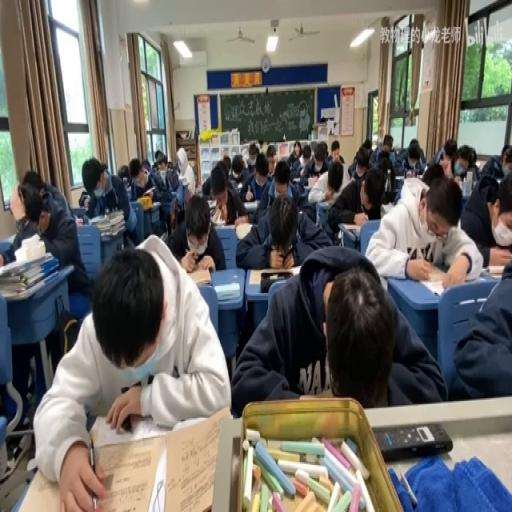calculator: (416, 268, 479, 298), (246, 267, 298, 286), (184, 267, 212, 286), (214, 282, 240, 300), (480, 263, 506, 279), (290, 181, 309, 202), (234, 222, 252, 240), (402, 175, 425, 188), (392, 181, 406, 202), (338, 220, 359, 232), (380, 200, 394, 214), (306, 175, 318, 189), (474, 156, 486, 170), (242, 199, 258, 209), (88, 214, 104, 224), (177, 174, 189, 186), (316, 196, 330, 206), (149, 199, 160, 209), (206, 199, 216, 209), (394, 174, 404, 184), (210, 218, 226, 224), (74, 216, 84, 225), (291, 176, 302, 184), (236, 180, 243, 190)
paper: (34, 238, 228, 510), (229, 246, 438, 417), (365, 170, 481, 288), (5, 168, 97, 301), (449, 244, 512, 401), (234, 185, 326, 267), (83, 155, 139, 246), (327, 161, 382, 239), (196, 162, 250, 231), (480, 170, 512, 268), (238, 152, 274, 209), (450, 142, 479, 189), (477, 142, 509, 182), (393, 136, 424, 175), (127, 155, 155, 198), (302, 142, 330, 182), (349, 138, 372, 176), (23, 188, 45, 226), (368, 134, 392, 166), (419, 164, 445, 188), (272, 160, 290, 190), (328, 138, 344, 168), (286, 139, 302, 168), (165, 164, 179, 192), (328, 164, 342, 192), (230, 155, 244, 182), (118, 162, 131, 188), (220, 155, 232, 181), (443, 140, 456, 160), (78, 189, 90, 206), (248, 145, 258, 165), (382, 160, 390, 184), (241, 146, 249, 165), (266, 144, 276, 158), (152, 149, 162, 162), (150, 162, 158, 174), (302, 154, 310, 164)
person: (374, 422, 451, 461), (118, 381, 144, 428), (405, 168, 414, 178)
